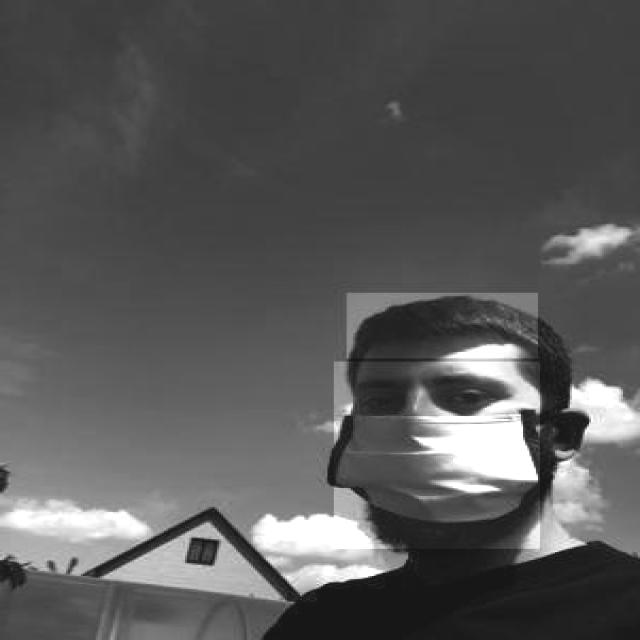face_mask: (332, 362, 540, 550)
head_nohelmet: (344, 293, 538, 360)
